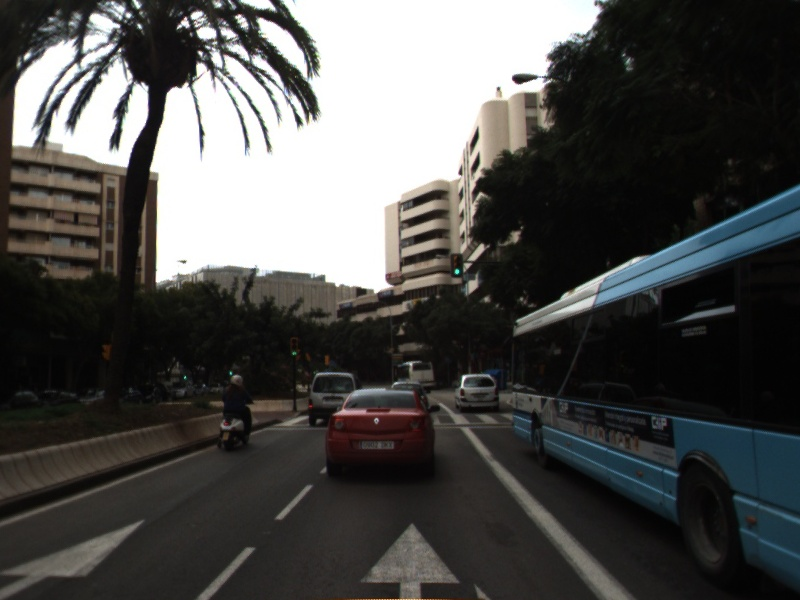STRAIGHT: (1, 515, 150, 600), (356, 516, 467, 600)
